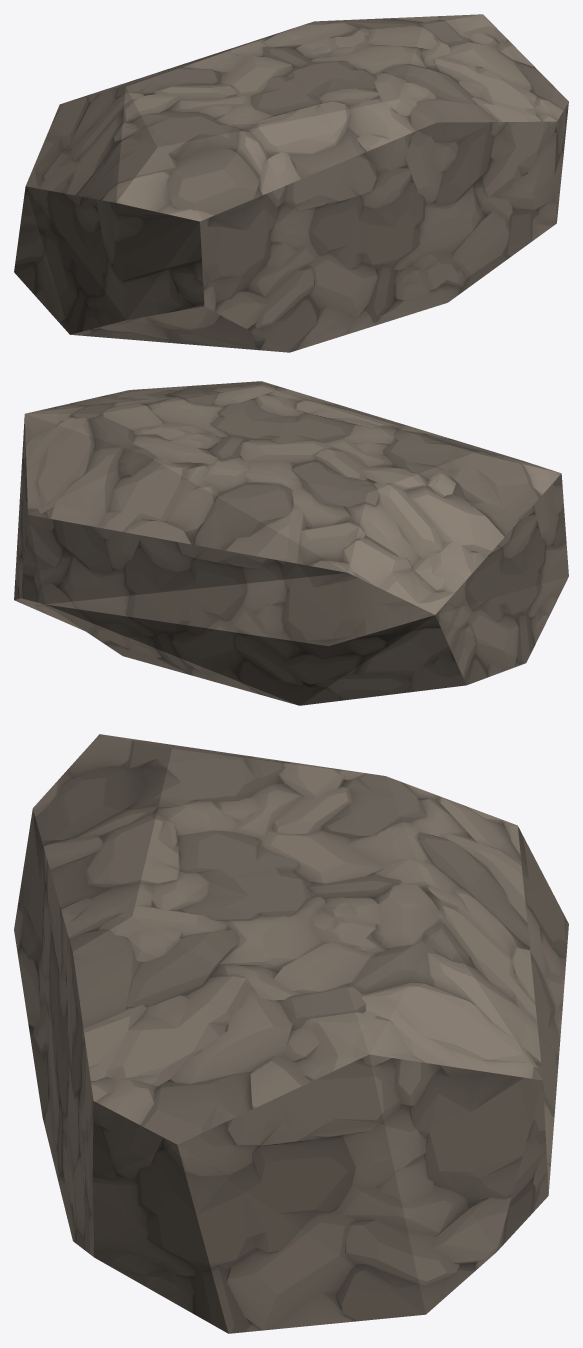
File: synty-rock-04.gltf
3 views of the same model, one above another, from view 1: azimuth 30°, elevation 25°; view 2: azimuth 150°, elevation 25°; view 3: azimuth 270°, elevation 25° (orthographic). The views are drawn at different scales.
Visible parts, largest first — view 1: SM_Rock_04; view 2: SM_Rock_04; view 3: SM_Rock_04.
Boxes of the visible parts, x1,y1,x2,y2 form: SM_Rock_04: [14, 14, 568, 352]; SM_Rock_04: [14, 381, 568, 705]; SM_Rock_04: [14, 734, 568, 1333].
Bounding box in the file's own units: 0.6252 × 0.2811 × 0.4046.
Materials: 1 (1 with a texture image).
